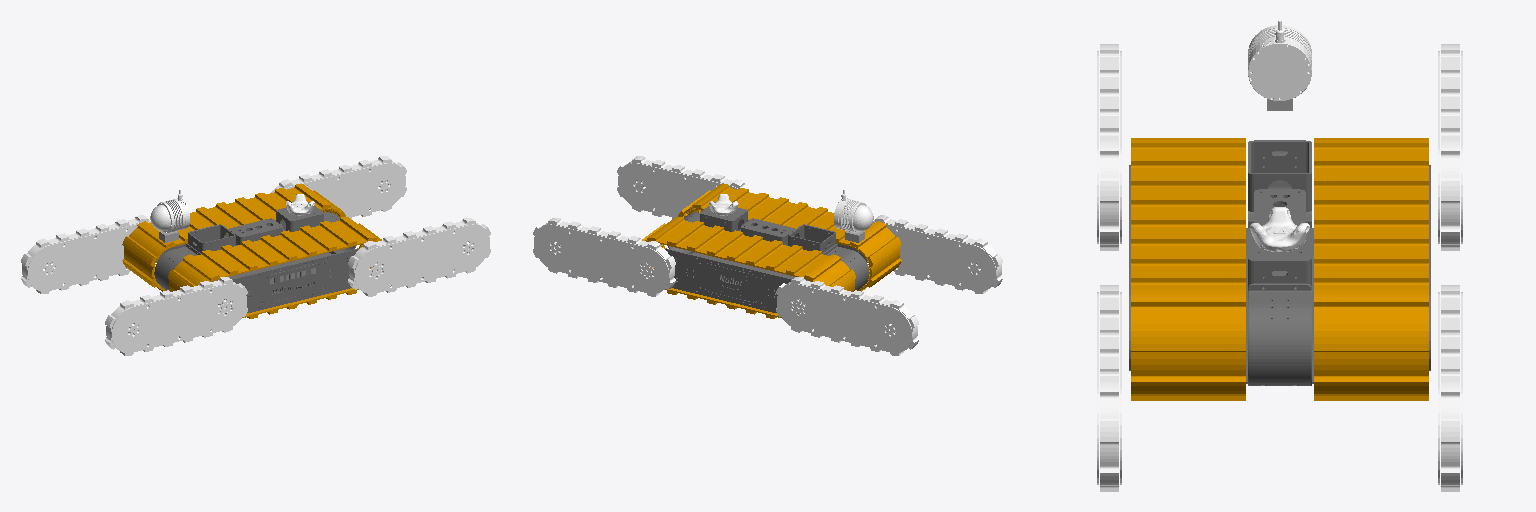
URDF robot description (NuBot_Pumbaa_v2_rviz):
<?xml version="1.0" encoding="utf-8"?>
<!-- This URDF was automatically created by SolidWorks to URDF Exporter! Originally created by [author] ([email redacted]) 
     Commit Version: 1.6.0-4-g7f85cfe  Build Version: 1.6.7995.38578
     For more information, please see http://wiki.ros.org/sw_urdf_exporter -->
<robot
  name="NuBot_Pumbaa_v2_rviz">
  <link
    name="base_link">
    <inertial>
      <origin
        xyz="0.003044 -0.00039553 -9.8594E-05"
        rpy="0 0 0" />
      <mass
        value="30" />
      <inertia
        ixx="0.061877"
        ixy="-7.1073E-09"
        ixz="7.6181E-07"
        iyy="0.2127"
        iyz="3.9238E-13"
        izz="0.2403" />
    </inertial>
    <visual>
      <origin
        xyz="0 0 0"
        rpy="0 0 0" />
      <geometry>
        <mesh
          filename="package://gazebo_description/models/NuBot_Pumbaa_v2/meshes/base_link.STL" />
      </geometry>
      <material
        name="">
        <color
          rgba="0.49804 0.49804 0.49804 1" />
      </material>
    </visual>
    <visual name='left_track_visual'>
      <origin xyz="0 0 0" rpy="0 0 0" />
      <geometry>
        <mesh filename="package://gazebo_description/models/NuBot_Pumbaa_v2/meshes/left_track_link.STL" />
      </geometry>
    </visual>
    <visual name='right_track_visual'>
      <origin xyz="0 0 0" rpy="0 0 0" />
      <geometry>
        <mesh filename="package://gazebo_description/models/NuBot_Pumbaa_v2/meshes/right_track_link.STL" />
      </geometry>
    </visual>
    <collision>
      <origin
        xyz="0 0 0"
        rpy="0 0 0" />
      <geometry>
        <mesh
          filename="package://gazebo_description/models/NuBot_Pumbaa_v2/meshes/base_link.STL" />
      </geometry>
    </collision>
  </link>
  <link
    name="front_left_flipper_link">
    <inertial>
      <origin
        xyz="0.16867 0.015987 -6.5778E-16"
        rpy="0 0 0" />
      <mass
        value="2.5" />
      <inertia
        ixx="0.002449"
        ixy="3.092E-11"
        ixz="2.4426E-17"
        iyy="0.02168"
        iyz="-1.2456E-18"
        izz="0.019288" />
    </inertial>
    <visual>
      <origin
        xyz="0 0 0"
        rpy="0 0 0" />
      <geometry>
        <mesh
          filename="package://gazebo_description/models/NuBot_Pumbaa_v2/meshes/front_left_fin_link.STL" />
      </geometry>
      <material
        name="">
        <color
          rgba="1 1 1 1" />
      </material>
    </visual>
    <collision>
      <origin
        xyz="0 0 0"
        rpy="0 0 0" />
      <geometry>
        <mesh
          filename="package://gazebo_description/models/NuBot_Pumbaa_v2/meshes/front_left_fin_link.STL" />
      </geometry>
    </collision>
  </link>
  <joint
    name="front_left_flipper_joint"
    type="revolute">
    <origin
      xyz="0.276 0.25 0"
      rpy="0 0 0" />
    <parent
      link="base_link" />
    <child
      link="front_left_flipper_link" />
    <axis
      xyz="0 -1 0" />
    <limit
      lower="-3"
      upper="3"
      effort="0"
      velocity="0" />
  </joint>
  <link
    name="front_right_flipper_link">
    <inertial>
      <origin
        xyz="0.16867 -0.015987 -4.7985E-06"
        rpy="0 0 0" />
      <mass
        value="2.5" />
      <inertia
        ixx="0.002449"
        ixy="-3.092E-11"
        ixz="4.7907E-07"
        iyy="0.02168"
        iyz="8.796E-16"
        izz="0.019288" />
    </inertial>
    <visual>
      <origin
        xyz="0 0 0"
        rpy="0 0 0" />
      <geometry>
        <mesh
          filename="package://gazebo_description/models/NuBot_Pumbaa_v2/meshes/front_right_fin_link.STL" />
      </geometry>
      <material
        name="">
        <color
          rgba="1 1 1 1" />
      </material>
    </visual>
    <collision>
      <origin
        xyz="0 0 0"
        rpy="0 0 0" />
      <geometry>
        <mesh
          filename="package://gazebo_description/models/NuBot_Pumbaa_v2/meshes/front_right_fin_link.STL" />
      </geometry>
    </collision>
  </link>
  <joint
    name="front_right_flipper_joint"
    type="revolute">
    <origin
      xyz="0.276 -0.25 0"
      rpy="0 0 0" />
    <parent
      link="base_link" />
    <child
      link="front_right_flipper_link" />
    <axis
      xyz="0 1 0" />
    <limit
      lower="-3"
      upper="3"
      effort="0"
      velocity="0" />
  </joint>
  <link
    name="rear_left_flipper_link">
    <inertial>
      <origin
        xyz="-0.16867 0.015987 4.7985E-06"
        rpy="0 0 0" />
      <mass
        value="2.5" />
      <inertia
        ixx="0.002449"
        ixy="-3.092E-11"
        ixz="4.7907E-07"
        iyy="0.02168"
        iyz="8.7975E-16"
        izz="0.019288" />
    </inertial>
    <visual>
      <origin
        xyz="0 0 0"
        rpy="0 0 0" />
      <geometry>
        <mesh
          filename="package://gazebo_description/models/NuBot_Pumbaa_v2/meshes/back_left_fin_link.STL" />
      </geometry>
      <material
        name="">
        <color
          rgba="1 1 1 1" />
      </material>
    </visual>
    <collision>
      <origin
        xyz="0 0 0"
        rpy="0 0 0" />
      <geometry>
        <mesh
          filename="package://gazebo_description/models/NuBot_Pumbaa_v2/meshes/back_left_fin_link.STL" />
      </geometry>
    </collision>
  </link>
  <joint
    name="rear_left_flipper_joint"
    type="revolute">
    <origin
      xyz="-0.276 0.25 0"
      rpy="0 0 0" />
    <parent
      link="base_link" />
    <child
      link="rear_left_flipper_link" />
    <axis
      xyz="0 -1 0" />
    <limit
      lower="-3"
      upper="3"
      effort="0"
      velocity="0" />
  </joint>
  <link
    name="rear_right_flipper_link">
    <inertial>
      <origin
        xyz="-0.16867 -0.015987 8.4034E-16"
        rpy="0 0 0" />
      <mass
        value="2.5" />
      <inertia
        ixx="0.002449"
        ixy="3.092E-11"
        ixz="6.532E-17"
        iyy="0.02168"
        iyz="3.9153E-18"
        izz="0.019288" />
    </inertial>
    <visual>
      <origin
        xyz="0 0 0"
        rpy="0 0 0" />
      <geometry>
        <mesh
          filename="package://gazebo_description/models/NuBot_Pumbaa_v2/meshes/back_right_fin_link.STL" />
      </geometry>
      <material
        name="">
        <color
          rgba="1 1 1 1" />
      </material>
    </visual>
    <collision>
      <origin
        xyz="0 0 0"
        rpy="0 0 0" />
      <geometry>
        <mesh
          filename="package://gazebo_description/models/NuBot_Pumbaa_v2/meshes/back_right_fin_link.STL" />
      </geometry>
    </collision>
  </link>
  <joint
    name="rear_right_flipper_joint"
    type="revolute">
    <origin
      xyz="-0.276 -0.25 0"
      rpy="0 0 0" />
    <parent
      link="base_link" />
    <child
      link="rear_right_flipper_link" />
    <axis
      xyz="0 1 0" />
    <limit
      lower="-3"
      upper="3"
      effort="0"
      velocity="0" />
  </joint>
  <link
    name="vive_link">
    <inertial>
      <origin
        xyz="0 0 0"
        rpy="0 0 0" />
      <mass
        value="0" />
      <inertia
        ixx="0"
        ixy="0"
        ixz="0"
        iyy="0"
        iyz="0"
        izz="0" />
    </inertial>
    <visual>
      <origin
        xyz="0 0 0"
        rpy="0 0 0" />
      <geometry>
        <mesh
          filename="package://gazebo_description/models/NuBot_Pumbaa_v2/meshes/vive_link.STL" />
      </geometry>
      <material
        name="">
        <color
          rgba="1 1 1 1" />
      </material>
    </visual>
    <collision>
      <origin
        xyz="0 0 0"
        rpy="0 0 0" />
      <geometry>
        <mesh
          filename="package://gazebo_description/models/NuBot_Pumbaa_v2/meshes/vive_link.STL" />
      </geometry>
    </collision>
  </link>
  <joint
    name="vive_joint"
    type="fixed">
    <origin
      xyz="0.16175 0 0.138"
      rpy="0 0 0" />
    <parent
      link="base_link" />
    <child
      link="vive_link" />
    <axis
      xyz="0 0 0" />
  </joint>
  <link
    name="lidar_link">
    <inertial>
      <origin
        xyz="0 0 0"
        rpy="0 0 0" />
      <mass
        value="0" />
      <inertia
        ixx="0"
        ixy="0"
        ixz="0"
        iyy="0"
        iyz="0"
        izz="0" />
    </inertial>
    <visual>
      <origin
        xyz="0 0 0"
        rpy="0 0 0" />
      <geometry>
        <mesh
          filename="package://gazebo_description/models/RS_Bpearl/meshes/RS_Bpearl_frame.STL" />
      </geometry>
      <material
        name="">
        <color
          rgba="1 1 1 1" />
      </material>
    </visual>
    <collision>
      <origin
        xyz="0 0 -0.04"
        rpy="0 0 0" />
      <geometry>
        <cylinder radius="0.05" length="0.11"/>
      </geometry>
    </collision>
  </link>
  <joint
    name="lidar_joint"
    type="fixed">
    <origin
      xyz="-0.36277 0 0.2115"
      rpy="0 1.5708 3.1416" />
    <parent
      link="base_link" />
    <child
      link="lidar_link" />
    <axis
      xyz="0 0 0" />
  </joint>
  <link
    name="imu_link">
    <inertial>
      <origin
        xyz="0 0 0"
        rpy="0 0 0" />
      <mass
        value="0" />
      <inertia
        ixx="0"
        ixy="0"
        ixz="0"
        iyy="0"
        iyz="0"
        izz="0" />
    </inertial>
    <visual>
      <origin xyz="0 0 0.013" rpy="0 0 0"/>
      <geometry>
        <box size="0.05 0.04 0.026" />
      </geometry>
    </visual>
    <collision>
      <origin xyz="0 0 0.013" rpy="0 0 0"/>
      <geometry>
        <box size="0.05 0.04 0.026" />
      </geometry>
    </collision>
  </link>
  <joint
    name="imu_joint"
    type="fixed">
    <origin
      xyz="-0.3185 0 0.133"
      rpy="0 0 3.1416" />
    <parent
      link="base_link" />
    <child
      link="imu_link" />
    <axis
      xyz="0 0 0" />
  </joint>
</robot>

--- Render facts (derived) ---
3 views of the same robot in one strip: view 1: azimuth 30°, elevation 25°; view 2: azimuth 150°, elevation 25°; view 3: azimuth 270°, elevation 25° (orthographic).
Model NuBot_Pumbaa_v2_rviz with 8 links and 7 joints (4 revolute, 3 fixed), rooted at base_link, posed all joints at 0.
Visible links, largest first — view 1: base_link, rear_right_flipper_link, front_right_flipper_link, rear_left_flipper_link, front_left_flipper_link, lidar_link; view 2: base_link, rear_left_flipper_link, front_left_flipper_link, rear_right_flipper_link, front_right_flipper_link, lidar_link; view 3: base_link, front_left_flipper_link, front_right_flipper_link, rear_left_flipper_link, rear_right_flipper_link, lidar_link, vive_link.
Link boxes in pixels (x1,y1,x2,y2): base_link: [122, 184, 381, 318]; rear_right_flipper_link: [105, 277, 247, 355]; front_right_flipper_link: [348, 218, 490, 296]; rear_left_flipper_link: [21, 215, 150, 293]; front_left_flipper_link: [271, 156, 406, 219]; lidar_link: [150, 190, 189, 232]; base_link: [642, 184, 901, 318]; rear_left_flipper_link: [776, 277, 918, 355]; front_left_flipper_link: [533, 218, 675, 296]; rear_right_flipper_link: [873, 215, 1002, 293]; front_right_flipper_link: [617, 156, 752, 219]; lidar_link: [834, 190, 873, 232]; base_link: [1129, 138, 1430, 400]; front_left_flipper_link: [1438, 285, 1462, 491]; front_right_flipper_link: [1097, 285, 1121, 491]; rear_left_flipper_link: [1438, 44, 1462, 250]; rear_right_flipper_link: [1097, 44, 1121, 250]; lidar_link: [1248, 21, 1311, 100]; vive_link: [1250, 207, 1309, 251].
Size in the robot's own frame: 1.4 by 0.57 by 0.3862 metres.
Meshes: 9 distinct files referenced, 9 mesh visuals loaded (9 binary STL).